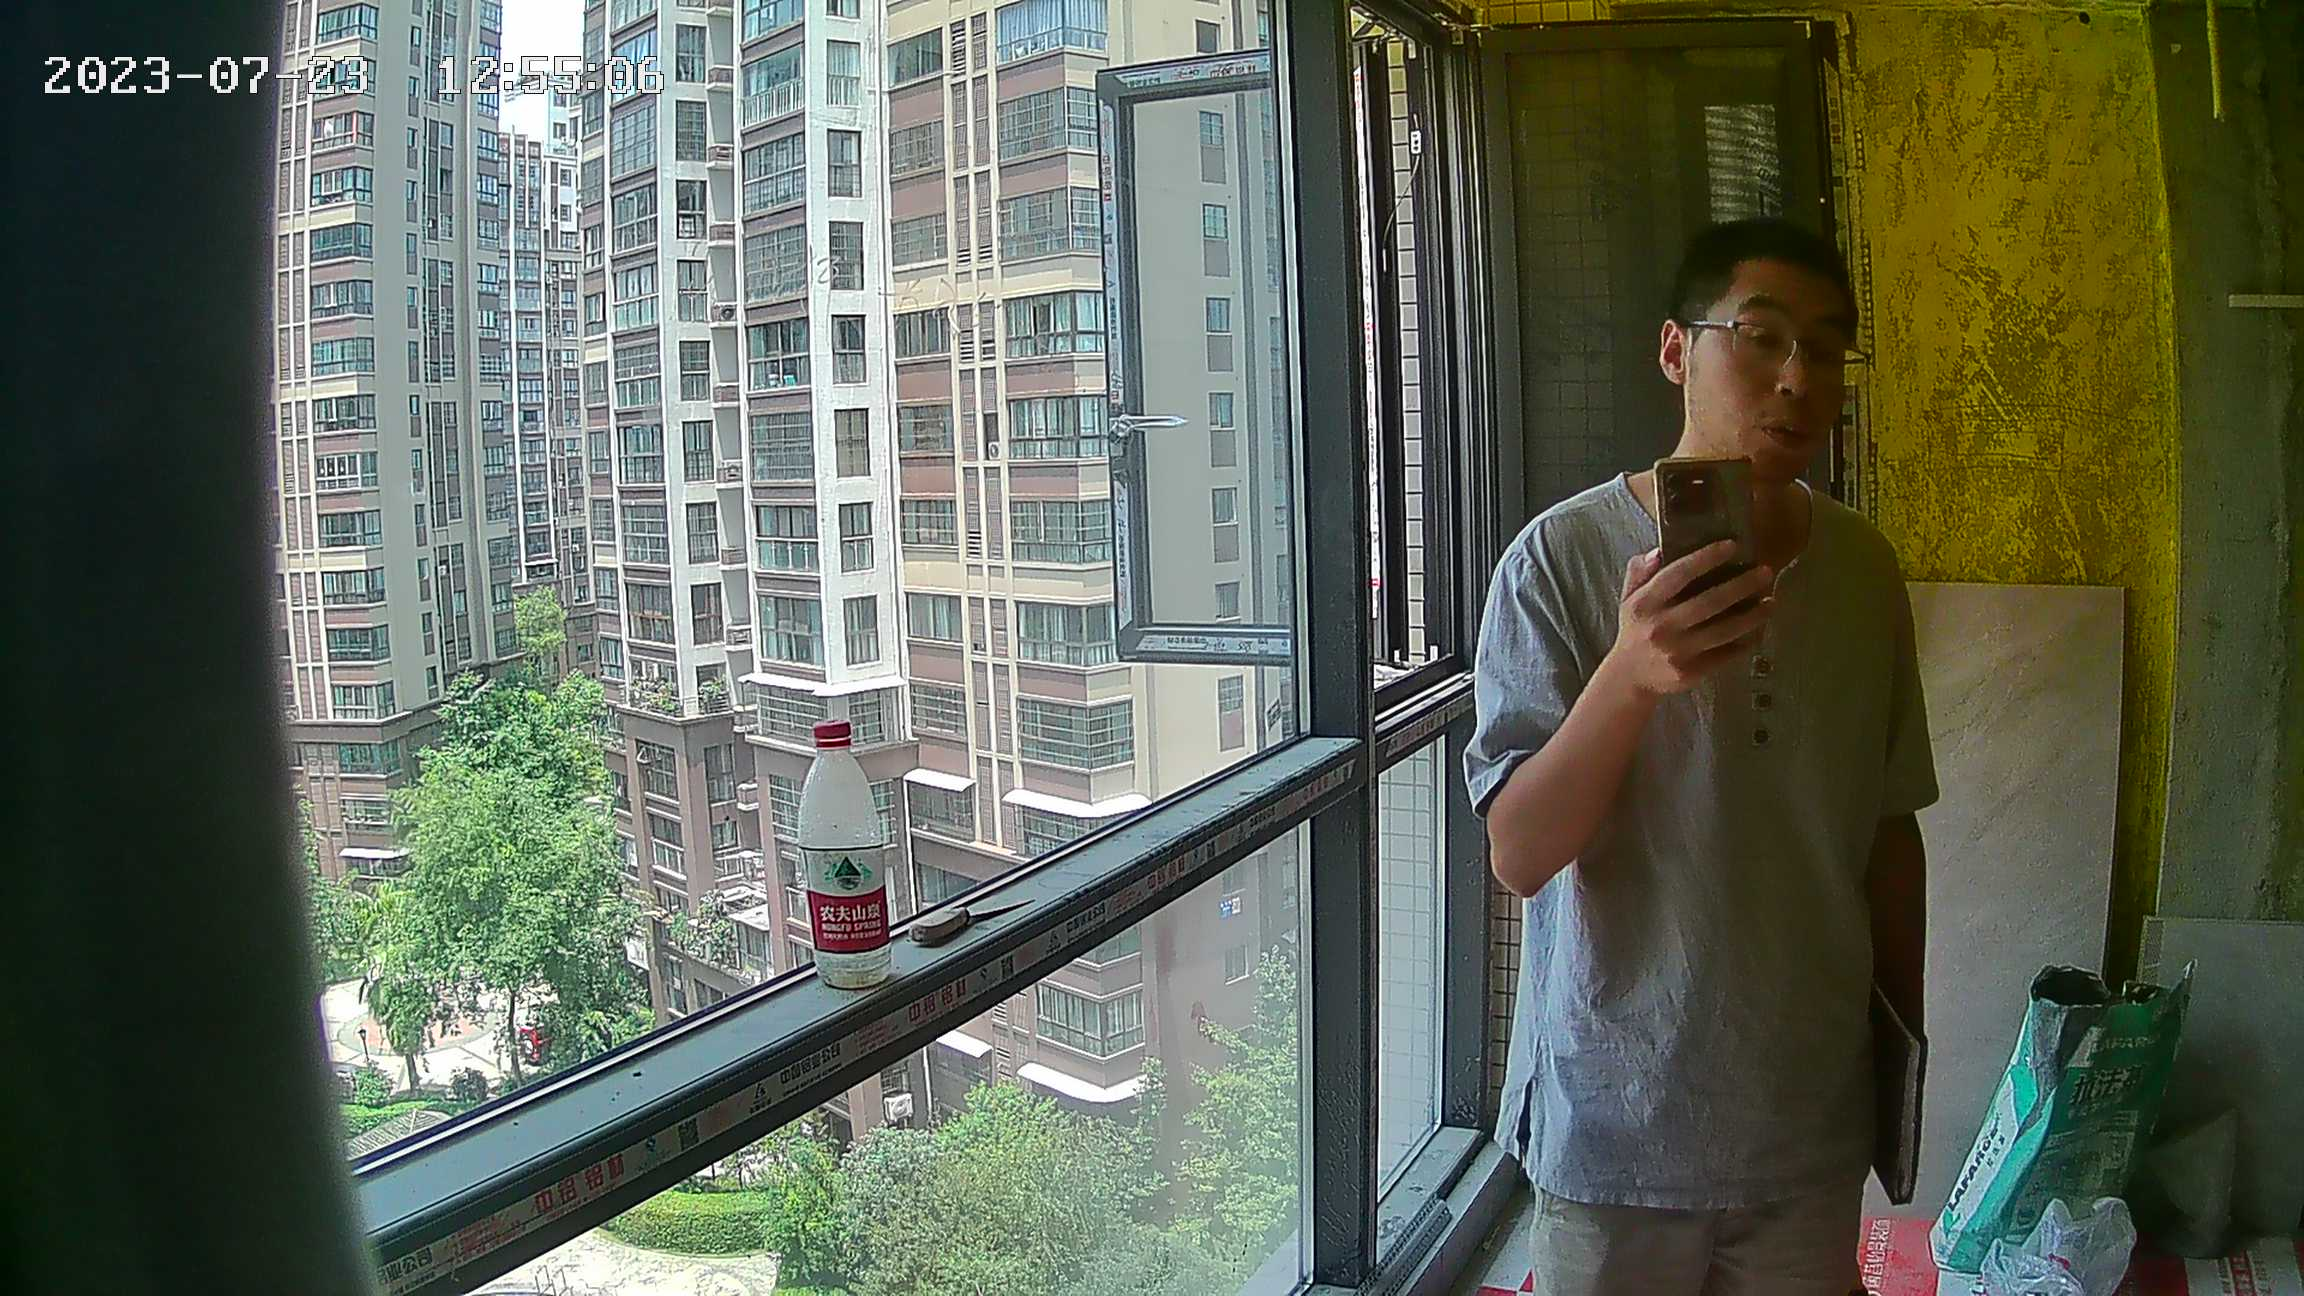people: (1462, 214, 1933, 1296)
window: (283, 3, 1501, 1296)
